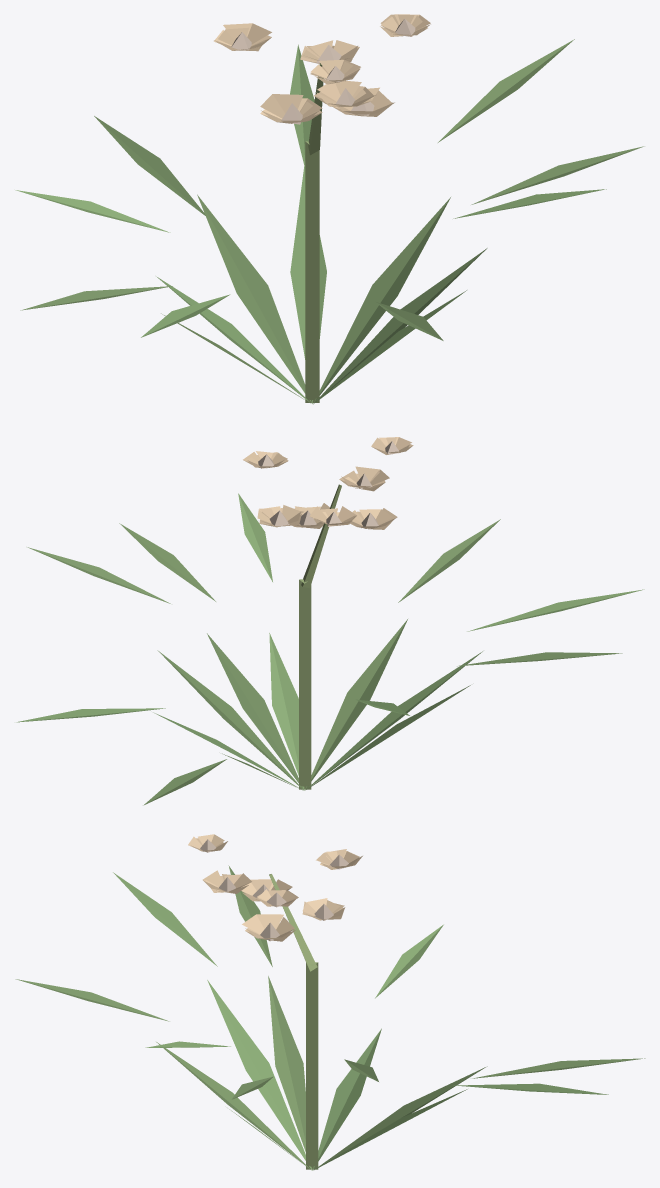
File: hua.lan@flowering__spring.glb
3 views of the same model, one above another, from view 1: azimuth 30°, elevation 25°; view 2: azimuth 150°, elevation 25°; view 3: azimuth 270°, elevation 25° (orthographic). The views are drawn at different scales.
Parts seen in each view (by area): view 1: hua.lan@flowering__spring; view 2: hua.lan@flowering__spring; view 3: hua.lan@flowering__spring.
Boxes of the visible parts, x1,y1,x2,y2 form: hua.lan@flowering__spring: (15,14,644,404); hua.lan@flowering__spring: (16,437,644,805); hua.lan@flowering__spring: (15,834,645,1170).
Size of the model in its own units: 1.35 by 0.7869 by 1.43.
